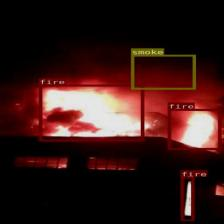fire: (38, 84, 143, 141), (168, 108, 220, 150), (180, 176, 194, 220)
smoke: (130, 55, 195, 89)
